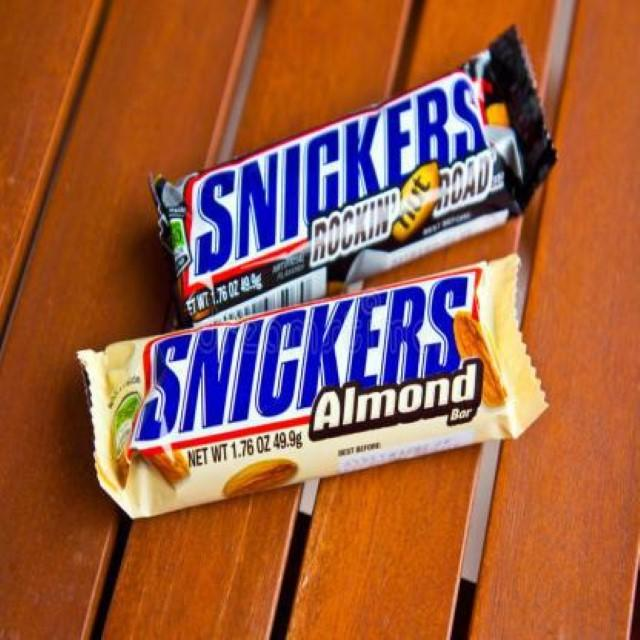snickers_chocolate: (160, 60, 523, 313), (88, 270, 510, 453)
